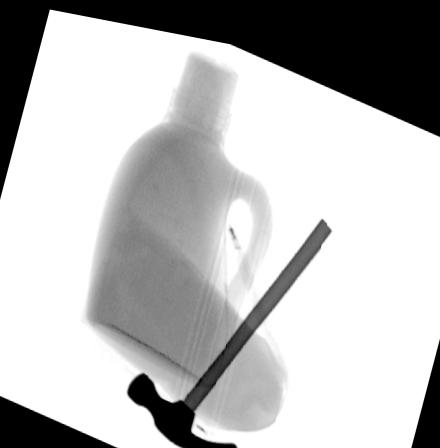Hammer: (122, 204, 333, 445)
